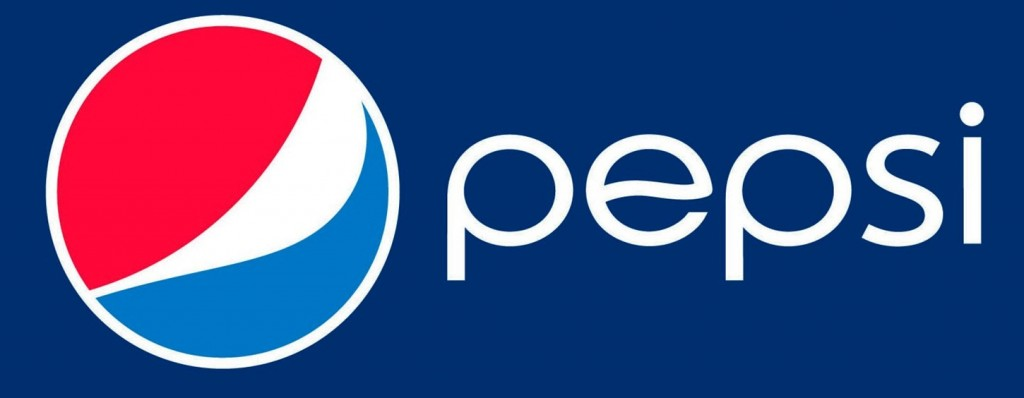pepsi: (32, 14, 401, 364), (46, 14, 401, 364)
